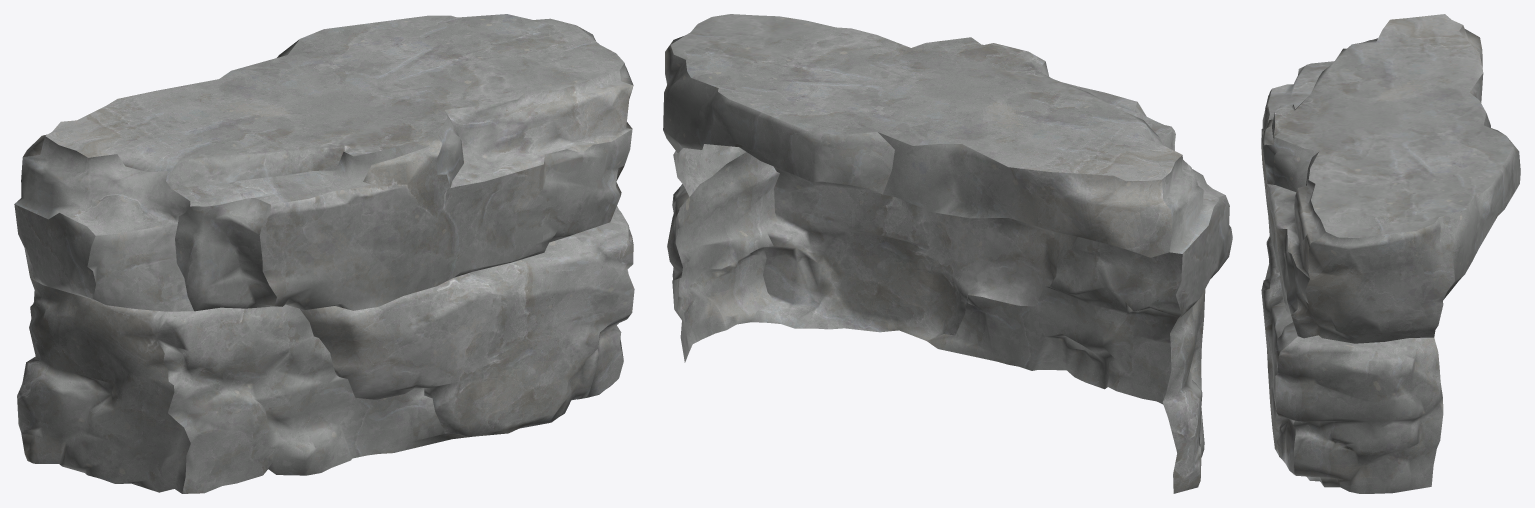
File: SM_Com_Roc_08AM.fbx
3 views of the same model, side by side, from view 1: azimuth 30°, elevation 25°; view 2: azimuth 150°, elevation 25°; view 3: azimuth 270°, elevation 25° (orthographic). The views are drawn at different scales.
Parts seen in each view (by area): view 1: SM_Com_Roc_08AM.mo; view 2: SM_Com_Roc_08AM.mo; view 3: SM_Com_Roc_08AM.mo.
Boxes of the visible parts, left/top/right/bottom form: SM_Com_Roc_08AM.mo: left=14, top=14, right=634, bottom=493; SM_Com_Roc_08AM.mo: left=663, top=14, right=1232, bottom=493; SM_Com_Roc_08AM.mo: left=1261, top=14, right=1520, bottom=493.
Size of the model in its own units: 54.47 by 30.03 by 25.62.
